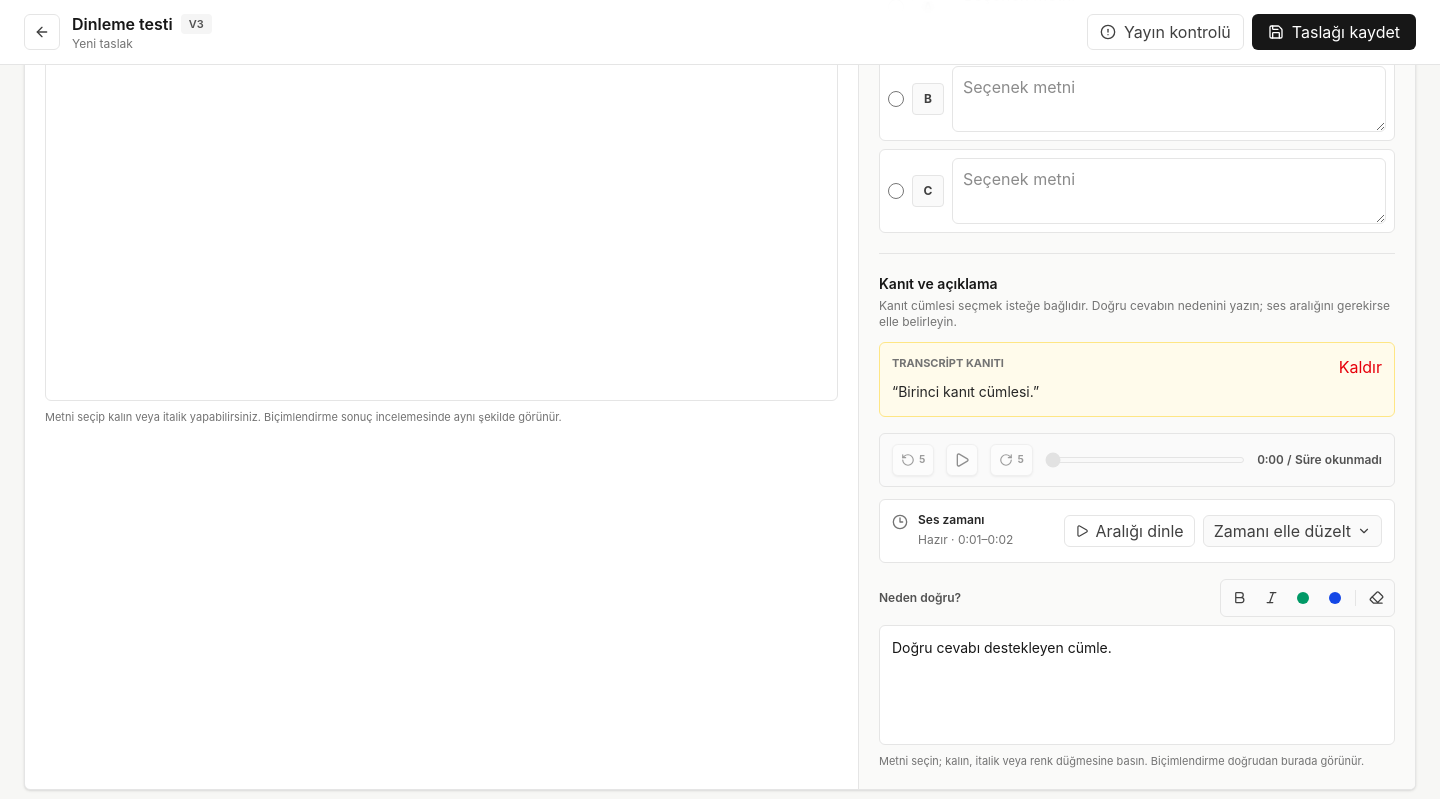
Test: ListeningExamEditorV3 › keeps manual evidence timing collapsed until it is needed
(page scrolled)
Check: the text "Hazır · 0:01–0:02" is shown, box [918,530,1013,550]
Click the button "Zamanı elle düzelt" at (1292, 530), box [1203,514,1382,546]
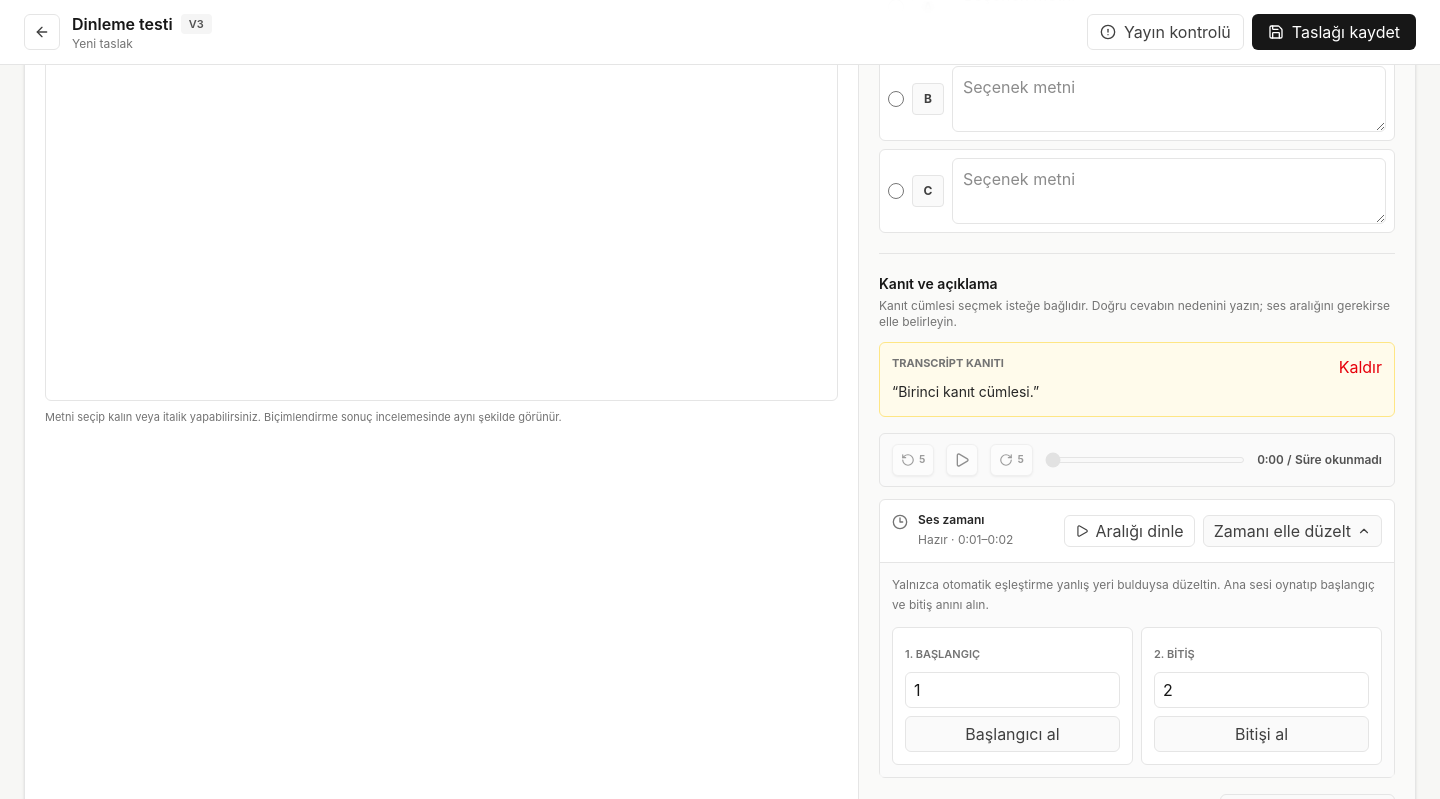
Check: the number field named "Ses kanıtı başlangıç saniyesi" is shown, box [905,672,1120,708]
Check: the number field named "Ses kanıtı bitiş saniyesi" is shown, box [1154,672,1369,708]
